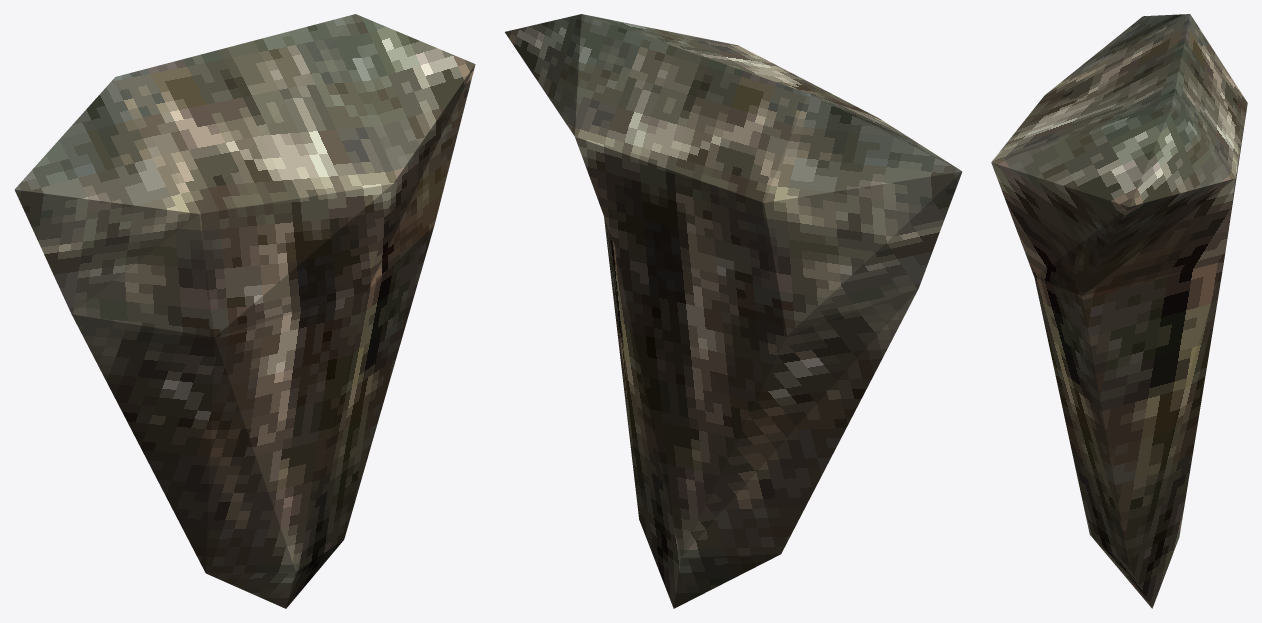
The picture shows the model from 3 angles, left to right: view 1: azimuth 30°, elevation 25°; view 2: azimuth 150°, elevation 25°; view 3: azimuth 270°, elevation 25°; orthographic projection. The views are drawn at different scales.
Parts seen in each view (by area): view 1: mn_05-col; view 2: mn_05-col; view 3: mn_05-col.
Part boxes in pixels (<box>): mn_05-col: <box>14,14,475,608</box>; mn_05-col: <box>505,14,962,608</box>; mn_05-col: <box>991,14,1247,608</box>.
Size of the model in its own units: 0.3184 by 0.3809 by 0.1645.
Materials: 1 (1 with a texture image).
